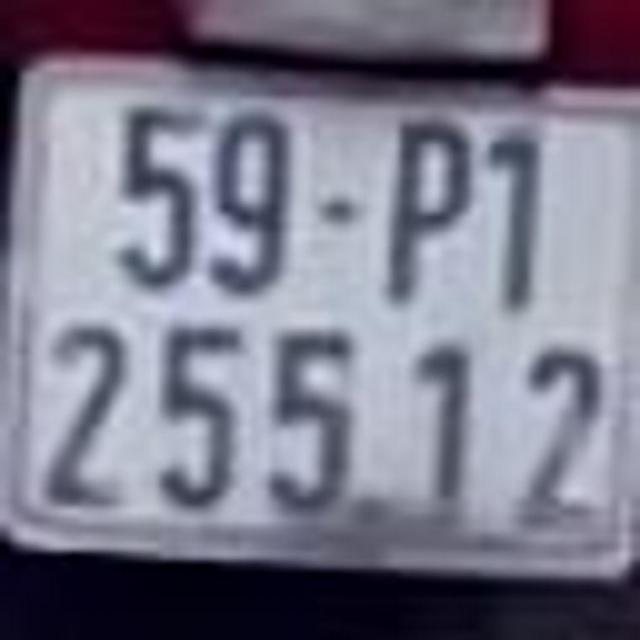1: (414, 338, 478, 522), (482, 123, 540, 303)
2: (42, 316, 132, 511), (522, 350, 601, 526)
5: (262, 322, 357, 505), (158, 319, 240, 506), (127, 93, 195, 282)
9: (214, 110, 286, 294)
P: (395, 114, 477, 330)
